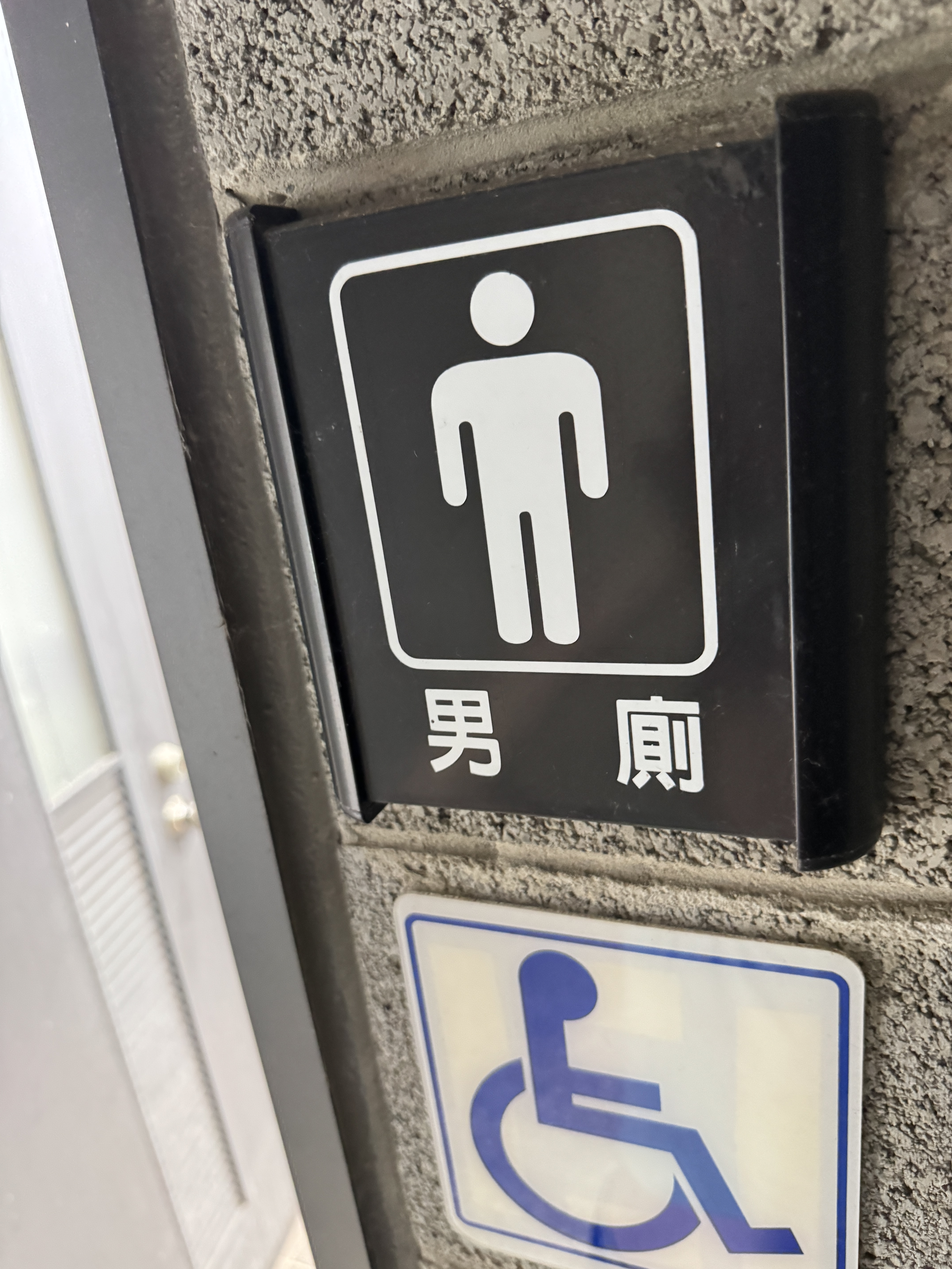toilet_sign: (206, 89, 905, 864)
